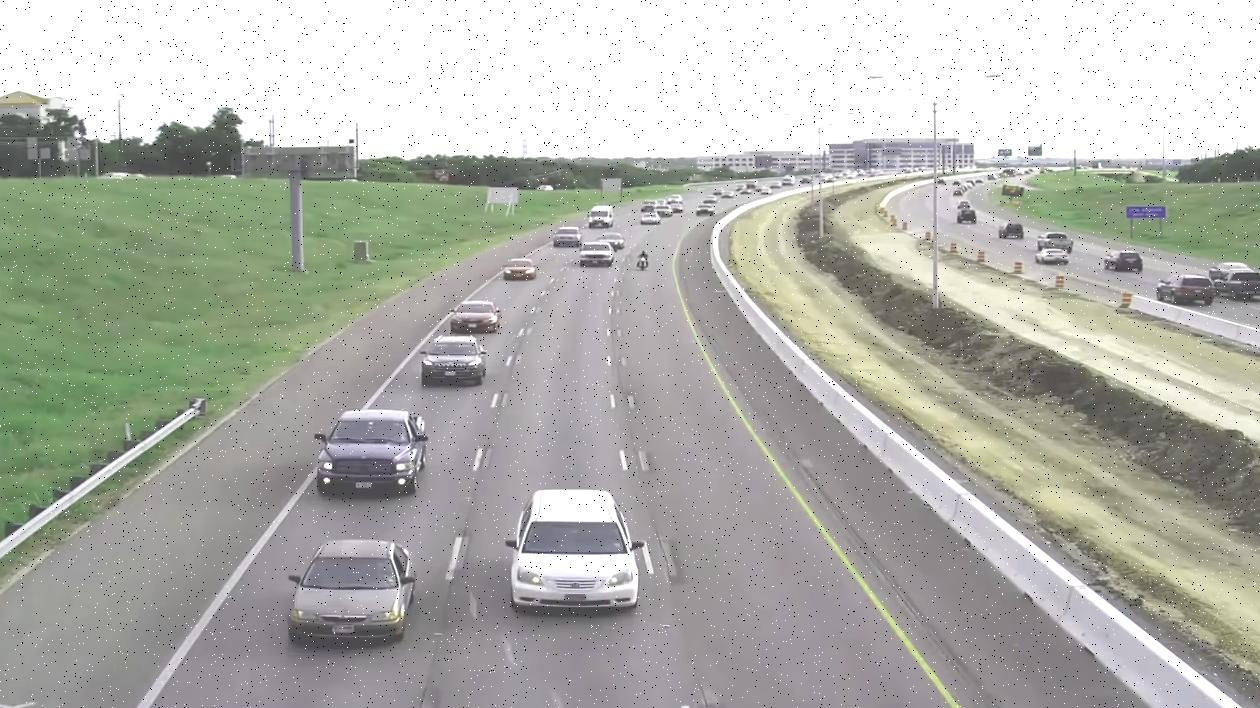bike: (634, 250, 652, 271)
car: (507, 485, 651, 615), (283, 543, 423, 639), (320, 409, 426, 496), (422, 336, 491, 384), (1207, 262, 1260, 298), (447, 301, 501, 334), (1155, 277, 1216, 306), (1031, 234, 1072, 266), (577, 245, 618, 269), (1101, 251, 1142, 273), (504, 260, 540, 280), (586, 207, 615, 228), (1033, 248, 1070, 264), (554, 228, 583, 246), (999, 222, 1025, 240), (642, 211, 664, 226)
